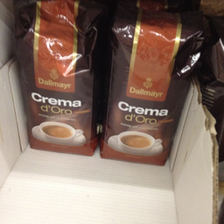coffee: (98, 2, 205, 169), (13, 1, 98, 158)
